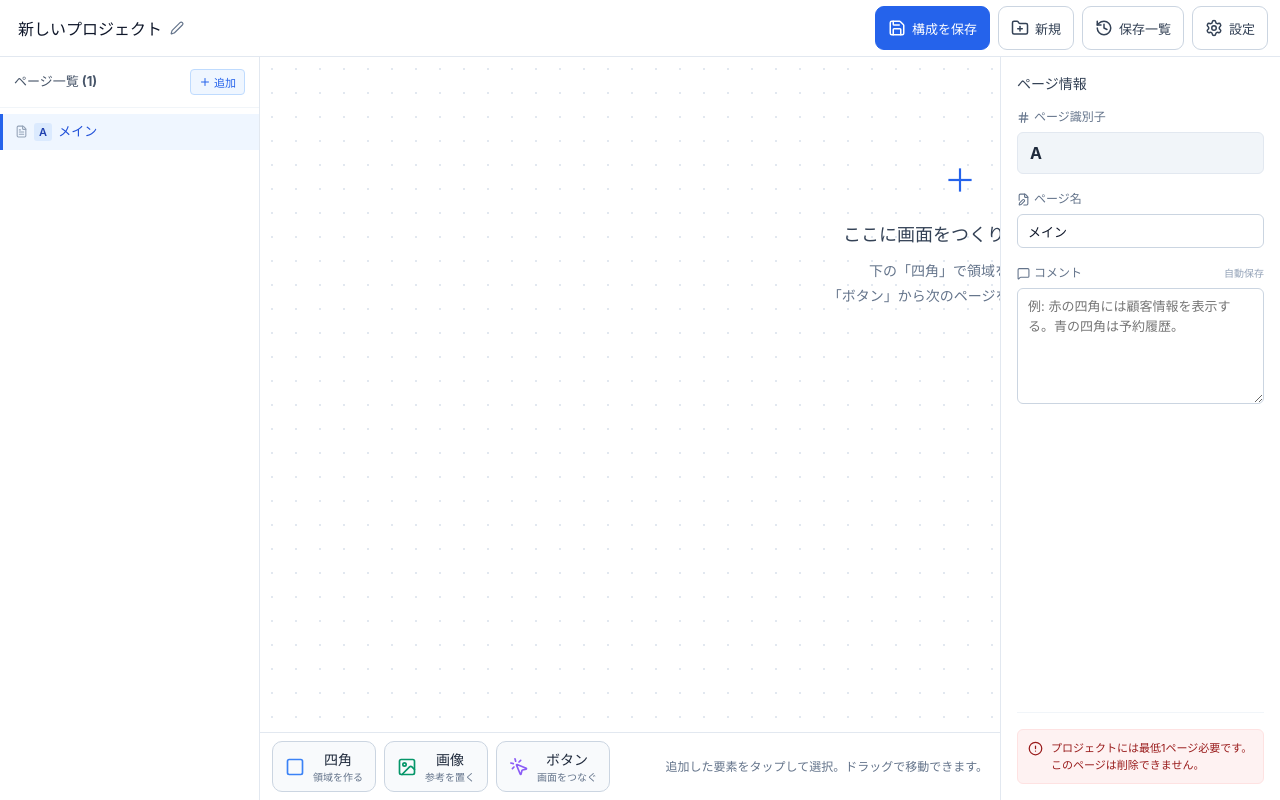
Test: UI Mock App Component Tests › 構成保存: クリックでトースト通知が表示される
What coordinates should you click on to do the following:
click the button "構成を保存"
I would click on:
 (932, 28)
Its box is [875,6,990,50].
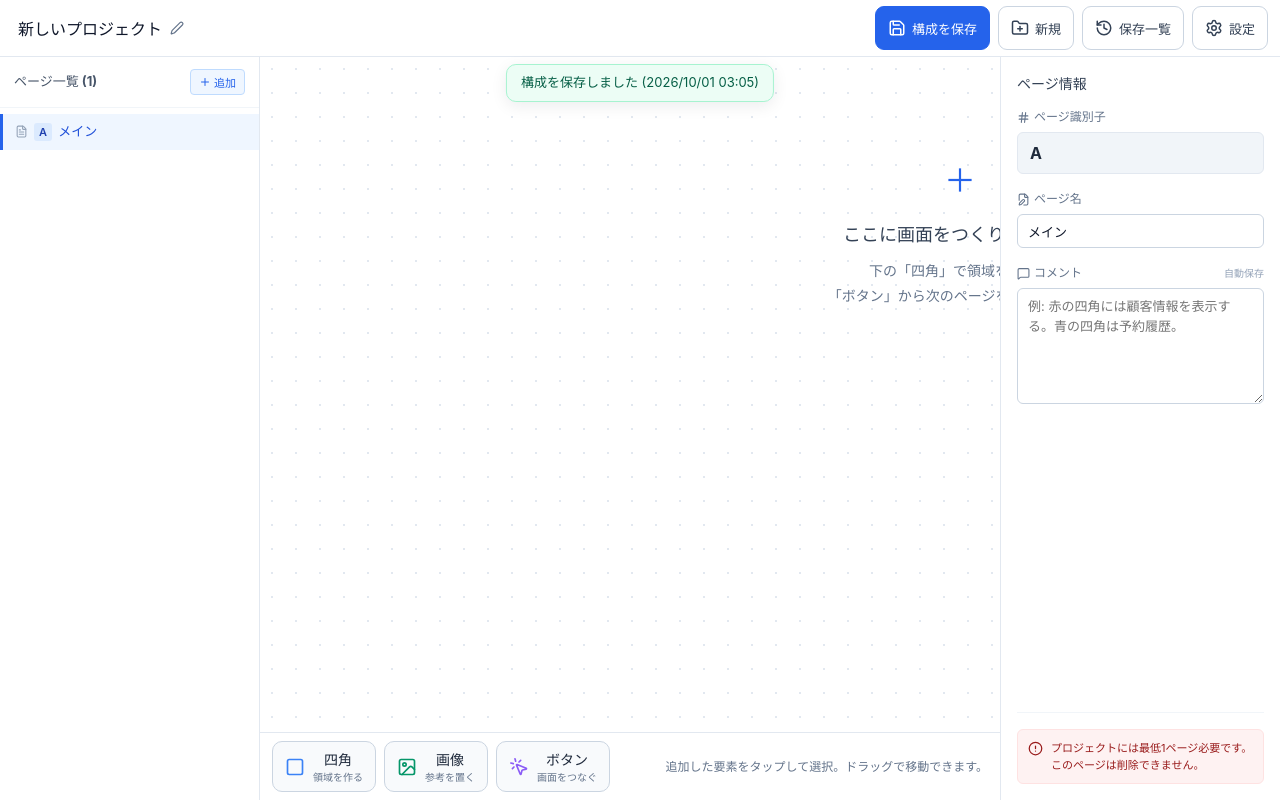
Result: the text "構成を保存しました (2026/10/01 03:05)" is shown at [506,64,774,102]
